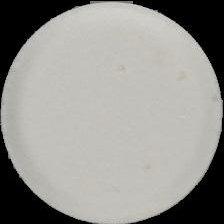51079-299: (0, 0, 224, 224)
